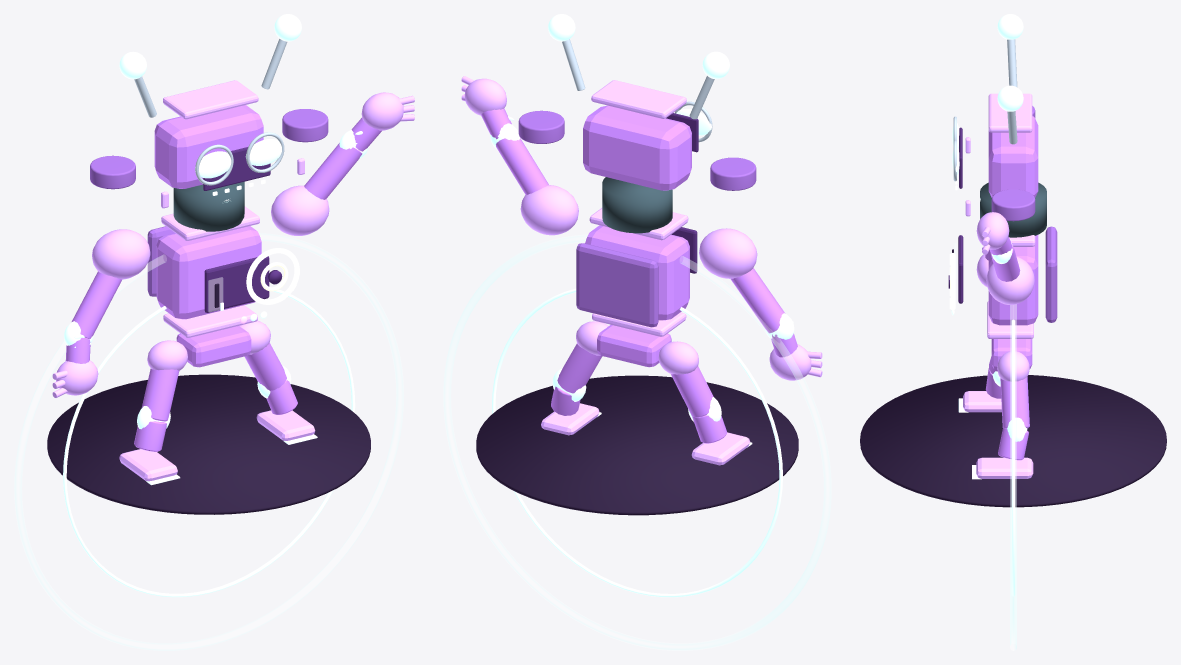
The model's file is byte_robot.glb.
3 views of the same model, side by side, from view 1: azimuth 30°, elevation 25°; view 2: azimuth 150°, elevation 25°; view 3: azimuth 270°, elevation 25° (orthographic). The views are drawn at different scales.
Parts seen in each view (by area): view 1: BYTE_PlatformShadow, BYTE_Aura, BYTE_Body, BYTE_Head, BYTE_Aura_Inner, BYTE_Neck, BYTE_ChestPanel, BYTE_LeftShoulder, BYTE_RightShoulder, BYTE_Head_TopTrim, BYTE_Pelvis, BYTE_LeftUpperArm (+22 smaller); view 2: BYTE_PlatformShadow, BYTE_Aura, BYTE_Head, BYTE_Body_BackShell, BYTE_Body, BYTE_Neck, BYTE_Aura_Inner, BYTE_LeftShoulder, BYTE_RightShoulder, BYTE_Head_TopTrim, BYTE_Pelvis, BYTE_LeftUpperArm (+17 smaller); view 3: BYTE_PlatformShadow, BYTE_Head, BYTE_Aura, BYTE_Body, BYTE_Aura_Inner, BYTE_RightShoulder, BYTE_Neck, BYTE_Head_TopTrim, BYTE_Body_BackShell, BYTE_EarRight, BYTE_RightFoot, BYTE_RightThigh (+9 smaller).
Part boxes in pixels (left/top/right/bottom): BYTE_PlatformShadow: left=47, top=374, right=370, bottom=514; BYTE_Aura: left=14, top=233, right=403, bottom=650; BYTE_Body: left=156, top=226, right=261, bottom=319; BYTE_Head: left=154, top=105, right=263, bottom=188; BYTE_Aura_Inner: left=63, top=287, right=355, bottom=597; BYTE_Neck: left=173, top=181, right=244, bottom=231; BYTE_ChestPanel: left=204, top=256, right=269, bottom=312; BYTE_LeftShoulder: left=92, top=229, right=150, bottom=279; BYTE_RightShoulder: left=271, top=185, right=329, bottom=235; BYTE_Head_TopTrim: left=163, top=80, right=258, bottom=119; BYTE_Pelvis: left=176, top=326, right=251, bottom=367; BYTE_LeftUpperArm: left=71, top=271, right=121, bottom=338; BYTE_PlatformShadow: left=476, top=375, right=798, bottom=515; BYTE_Aura: left=443, top=234, right=831, bottom=650; BYTE_Head: left=583, top=105, right=691, bottom=190; BYTE_Body_BackShell: left=576, top=243, right=658, bottom=327; BYTE_Body: left=585, top=225, right=689, bottom=320; BYTE_Neck: left=602, top=177, right=672, bottom=233; BYTE_Aura_Inner: left=492, top=288, right=782, bottom=597; BYTE_LeftShoulder: left=699, top=228, right=757, bottom=278; BYTE_RightShoulder: left=520, top=185, right=578, bottom=235; BYTE_Head_TopTrim: left=591, top=80, right=686, bottom=118; BYTE_Pelvis: left=597, top=325, right=671, bottom=367; BYTE_LeftUpperArm: left=730, top=268, right=785, bottom=333; BYTE_PlatformShadow: left=860, top=375, right=1166, bottom=507; BYTE_Head: left=988, top=115, right=1038, bottom=197; BYTE_Aura: left=1010, top=304, right=1016, bottom=650; BYTE_Body: left=988, top=235, right=1038, bottom=325; BYTE_Aura_Inner: left=1011, top=319, right=1015, bottom=596; BYTE_RightShoulder: left=986, top=256, right=1034, bottom=304; BYTE_Neck: left=980, top=182, right=1046, bottom=237; BYTE_Head_TopTrim: left=988, top=93, right=1032, bottom=132; BYTE_Body_BackShell: left=1045, top=226, right=1057, bottom=322; BYTE_EarRight: left=991, top=189, right=1035, bottom=221; BYTE_RightFoot: left=976, top=457, right=1033, bottom=478; BYTE_RightThigh: left=1000, top=377, right=1029, bottom=428.
Bounding box in the file's own units: 2.91 × 4.38 × 2.1.
